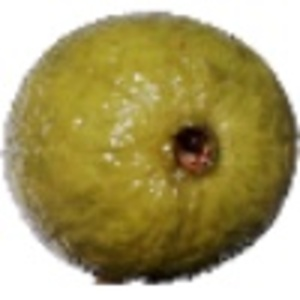goiaba: (5, 10, 293, 277)
